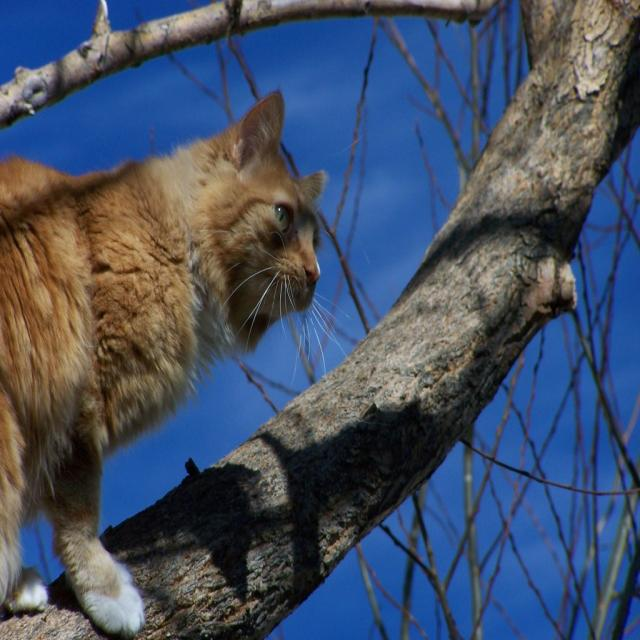Cat: (0, 84, 362, 636)
